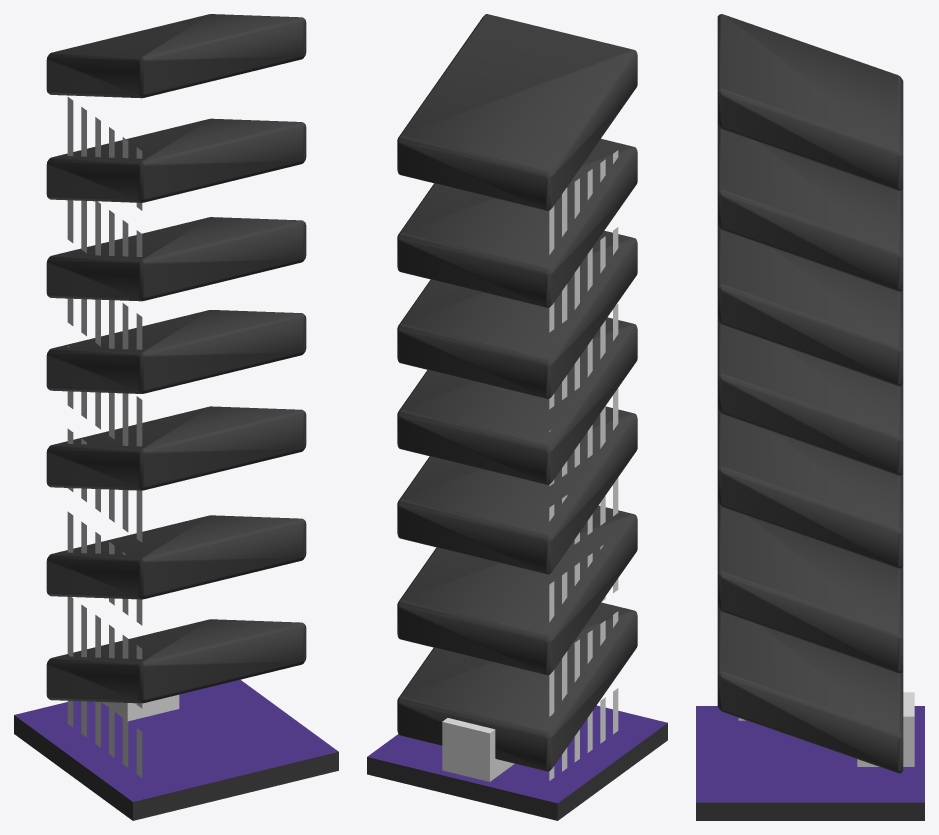
The model's file is building_4.fbx.
The picture shows the model from 3 angles, left to right: view 1: azimuth 30°, elevation 25°; view 2: azimuth 150°, elevation 25°; view 3: azimuth 270°, elevation 25°; orthographic projection. The views are drawn at different scales.
Parts seen in each view (by area): view 1: Cube.097, Base.005, Cube.093, Cube.092; view 2: Cube.097, Base.005, Cube.093, Cube.092; view 3: Cube.097, Base.005, Cube.092.
Boxes of the visible parts, bbox=[...] form: Cube.097: bbox=[46, 14, 306, 703]; Base.005: bbox=[14, 679, 338, 820]; Cube.093: bbox=[67, 97, 142, 777]; Cube.092: bbox=[101, 694, 179, 721]; Cube.097: bbox=[397, 14, 637, 771]; Base.005: bbox=[367, 705, 667, 820]; Cube.093: bbox=[549, 150, 618, 780]; Cube.092: bbox=[442, 718, 514, 781]; Cube.097: bbox=[717, 14, 903, 773]; Base.005: bbox=[696, 706, 924, 820]; Cube.092: bbox=[857, 692, 914, 766].
Bounding box in the file's own units: 800 × 2782 × 800.
